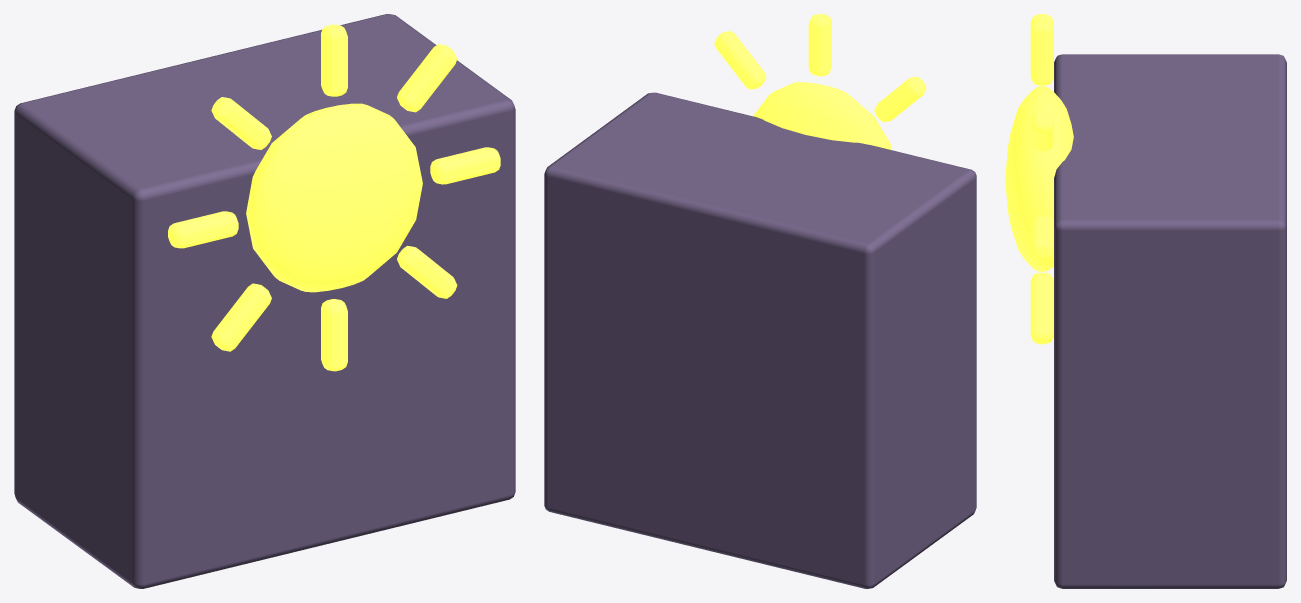
Rendered from fonte_luz.glb.
3 renders of one model, left to right at view 1: azimuth 30°, elevation 25°; view 2: azimuth 150°, elevation 25°; view 3: azimuth 270°, elevation 25°, orthographic. The views are drawn at different scales.
Visible parts, largest first — view 1: Moldura; view 2: Moldura; view 3: Moldura.
Part boxes in pixels (box(x1,y1,x2,y2)): Moldura: box(14, 14, 515, 588); Moldura: box(544, 14, 976, 588); Moldura: box(1005, 14, 1286, 588).
Bounding box in the file's own units: 0.7 × 0.92 × 0.484.
